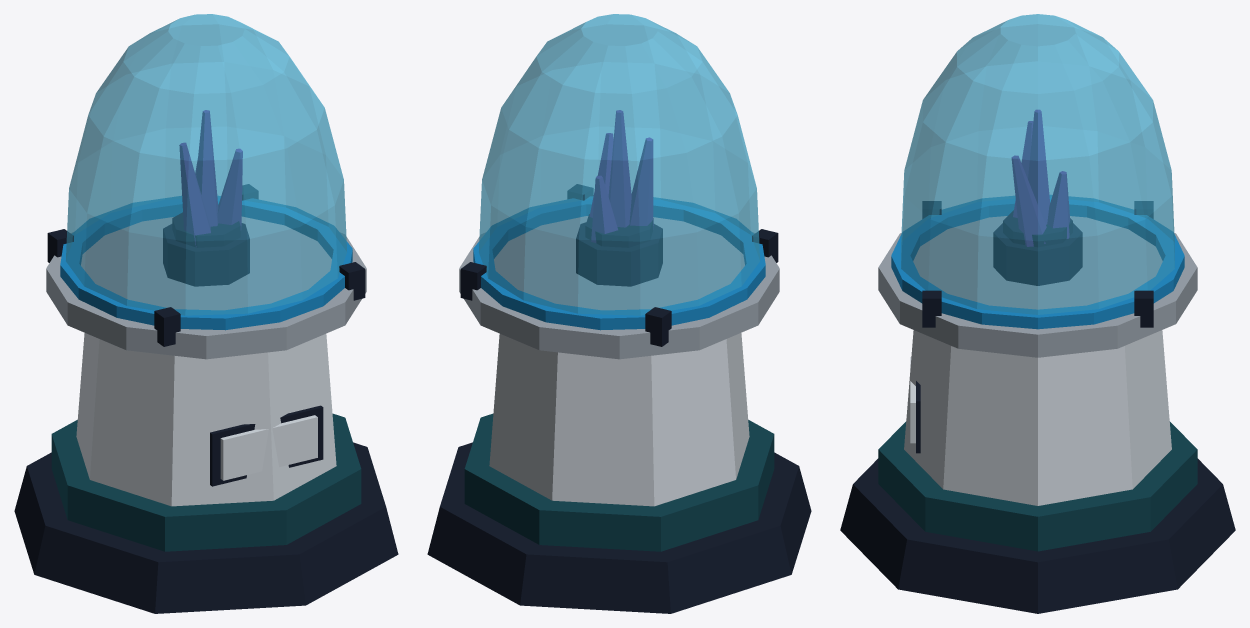
3 renders of one model, left to right at view 1: azimuth 30°, elevation 25°; view 2: azimuth 150°, elevation 25°; view 3: azimuth 270°, elevation 25°, orthographic.
Visible parts, largest first — view 1: DL013_DiscoveryDisplay_glass_cyan, DL013_DiscoveryDisplay_graphite_navy, DL013_DiscoveryDisplay_hull_offwhite, DL013_DiscoveryDisplay_titanium, DL013_DiscoveryDisplay_teal_shell, DL013_DiscoveryDisplay_emissive_cyan, DL013_DiscoveryDisplay_emissive_violet; view 2: DL013_DiscoveryDisplay_glass_cyan, DL013_DiscoveryDisplay_hull_offwhite, DL013_DiscoveryDisplay_graphite_navy, DL013_DiscoveryDisplay_titanium, DL013_DiscoveryDisplay_teal_shell, DL013_DiscoveryDisplay_emissive_cyan, DL013_DiscoveryDisplay_emissive_violet; view 3: DL013_DiscoveryDisplay_glass_cyan, DL013_DiscoveryDisplay_hull_offwhite, DL013_DiscoveryDisplay_graphite_navy, DL013_DiscoveryDisplay_titanium, DL013_DiscoveryDisplay_teal_shell, DL013_DiscoveryDisplay_emissive_cyan, DL013_DiscoveryDisplay_emissive_violet.
Boxes of the visible parts, x1=… form: DL013_DiscoveryDisplay_glass_cyan: x1=66, y1=14, x2=346, y2=315; DL013_DiscoveryDisplay_graphite_navy: x1=14, y1=184, x2=398, y2=613; DL013_DiscoveryDisplay_hull_offwhite: x1=76, y1=333, x2=336, y2=506; DL013_DiscoveryDisplay_titanium: x1=46, y1=216, x2=366, y2=359; DL013_DiscoveryDisplay_teal_shell: x1=51, y1=413, x2=361, y2=551; DL013_DiscoveryDisplay_emissive_cyan: x1=60, y1=196, x2=352, y2=330; DL013_DiscoveryDisplay_emissive_violet: x1=179, y1=110, x2=242, y2=246; DL013_DiscoveryDisplay_glass_cyan: x1=479, y1=14, x2=759, y2=315; DL013_DiscoveryDisplay_hull_offwhite: x1=489, y1=333, x2=749, y2=506; DL013_DiscoveryDisplay_graphite_navy: x1=427, y1=184, x2=811, y2=613; DL013_DiscoveryDisplay_titanium: x1=459, y1=216, x2=779, y2=359; DL013_DiscoveryDisplay_teal_shell: x1=464, y1=413, x2=774, y2=551; DL013_DiscoveryDisplay_emissive_cyan: x1=473, y1=196, x2=765, y2=330; DL013_DiscoveryDisplay_emissive_violet: x1=589, y1=110, x2=653, y2=242; DL013_DiscoveryDisplay_glass_cyan: x1=901, y1=14, x2=1174, y2=314; DL013_DiscoveryDisplay_hull_offwhite: x1=904, y1=330, x2=1171, y2=505; DL013_DiscoveryDisplay_graphite_navy: x1=840, y1=201, x2=1235, y2=613; DL013_DiscoveryDisplay_titanium: x1=878, y1=216, x2=1197, y2=357; DL013_DiscoveryDisplay_teal_shell: x1=878, y1=421, x2=1197, y2=551; DL013_DiscoveryDisplay_emissive_cyan: x1=891, y1=195, x2=1184, y2=329; DL013_DiscoveryDisplay_emissive_violet: x1=1011, y1=109, x2=1070, y2=246.
Size of the model in its own units: 1.24 by 1.73 by 1.24.
